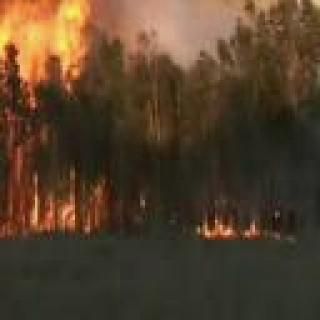fire: (0, 0, 102, 239), (196, 208, 268, 238)
